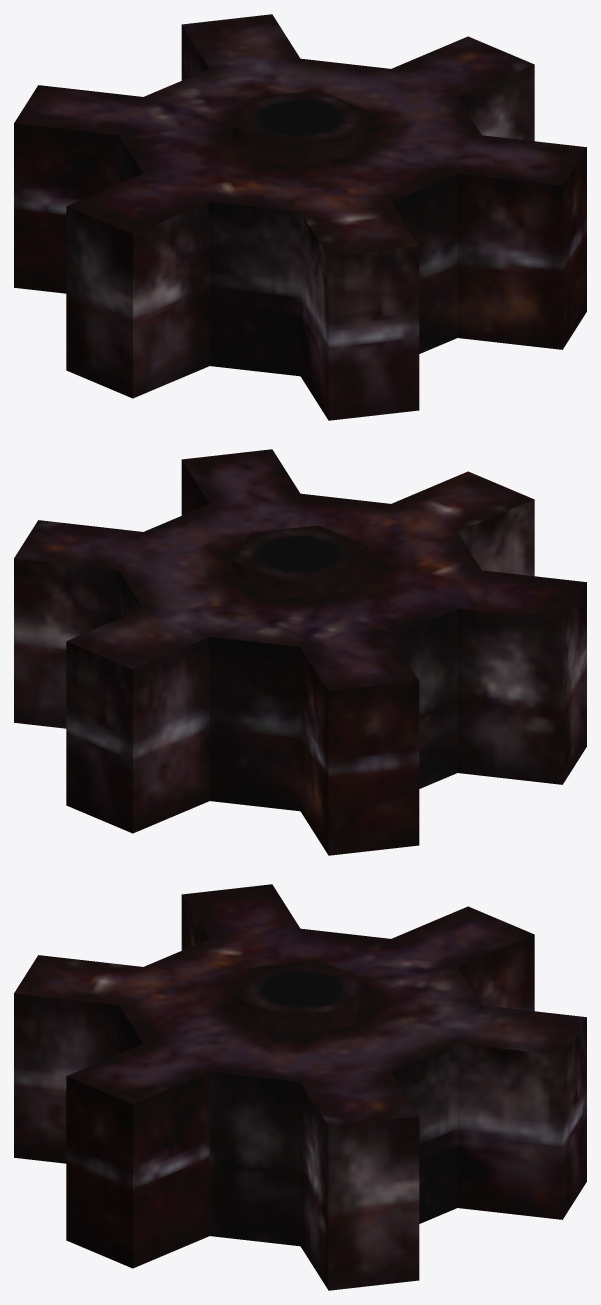
The model's file is Gear.fbx.
The picture shows the model from 3 angles, top to bottom: view 1: azimuth 30°, elevation 25°; view 2: azimuth 150°, elevation 25°; view 3: azimuth 270°, elevation 25°; orthographic projection.
Parts seen in each view (by area): view 1: Gear; view 2: Gear; view 3: Gear.
Part boxes in pixels (x1,y1,x2,y2): Gear: (14, 14, 586, 420); Gear: (14, 449, 586, 855); Gear: (14, 884, 586, 1290).
Size of the model in its own units: 316 by 120 by 316.
